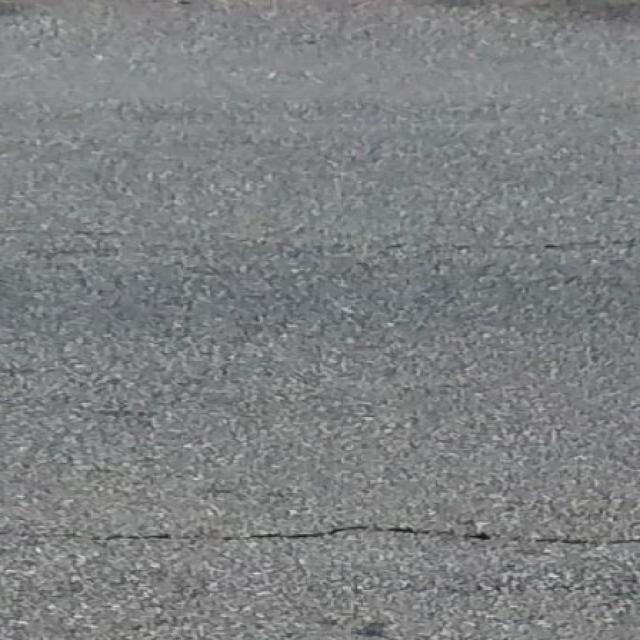Horizontal Crack: (0, 523, 640, 546), (218, 232, 639, 256), (0, 225, 127, 238)
